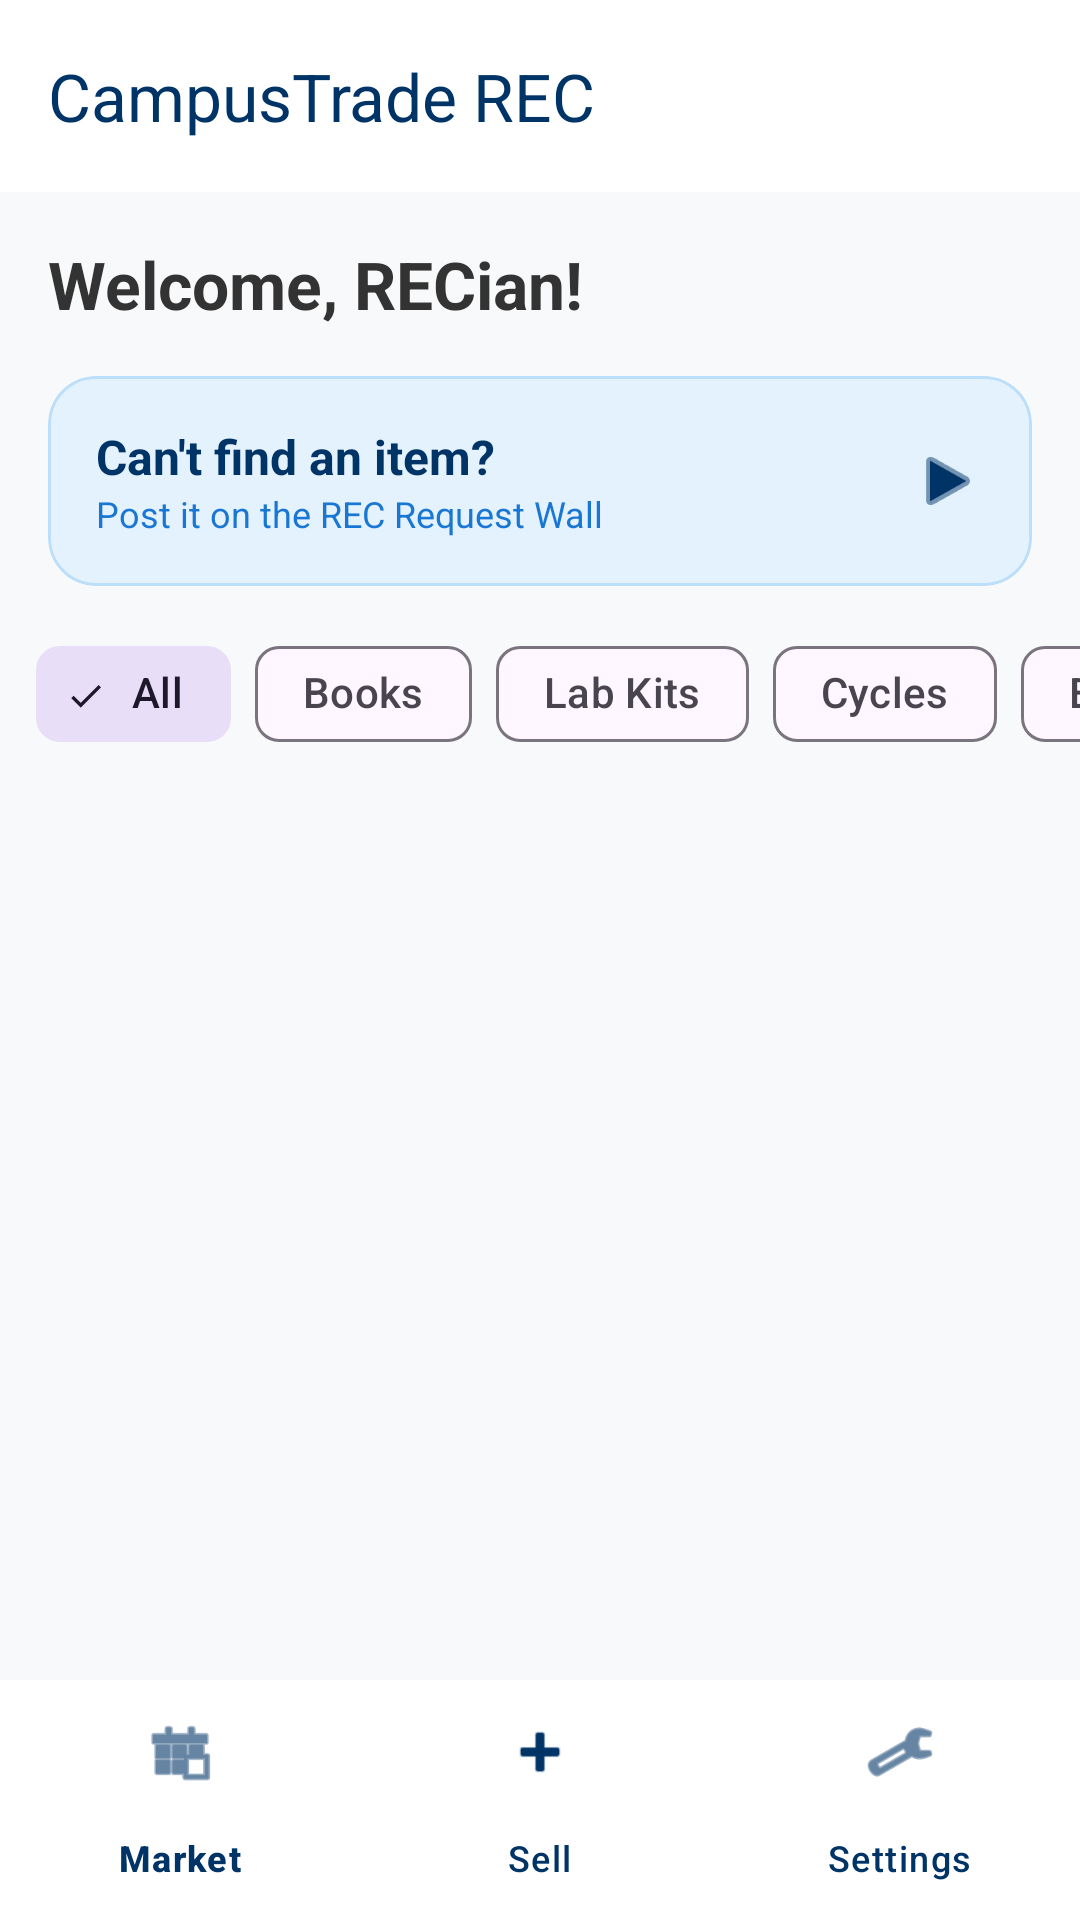

Locate icon controls on the screen. Image size 1080 x 1920, boxes as (x1, y1, x2, y2).
play: (926, 457, 970, 505)
